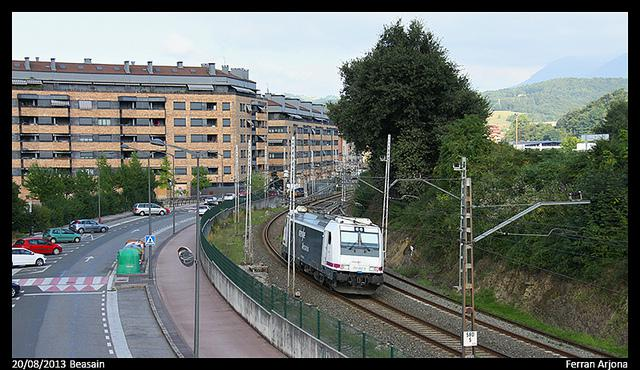Train: (281, 207, 386, 297)
